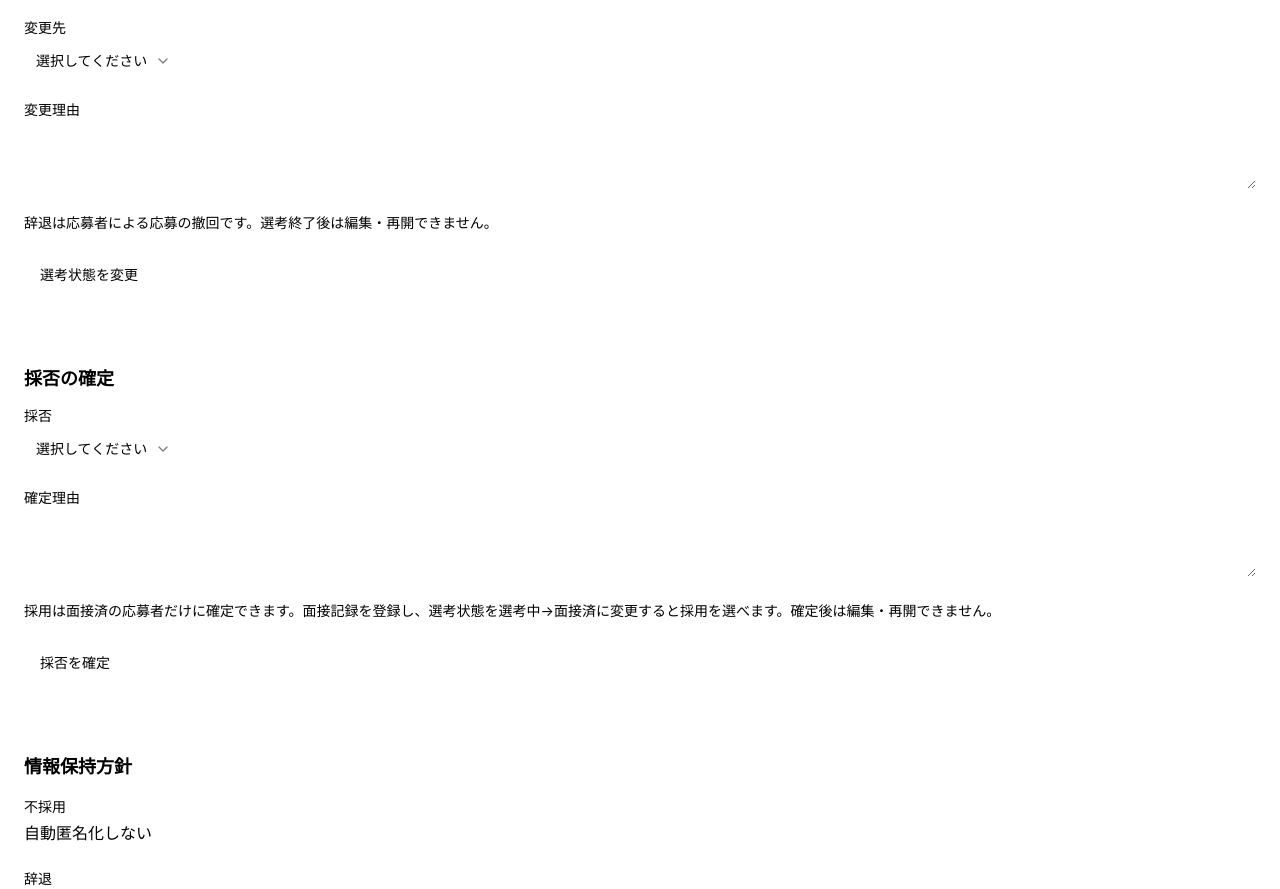
it: 面接前は不採用だけを選べ、確認後に確定して終了表示へ切り替える
(page scrolled)
Click the dropdown named "採否": (104, 449) [24,431,183,467]
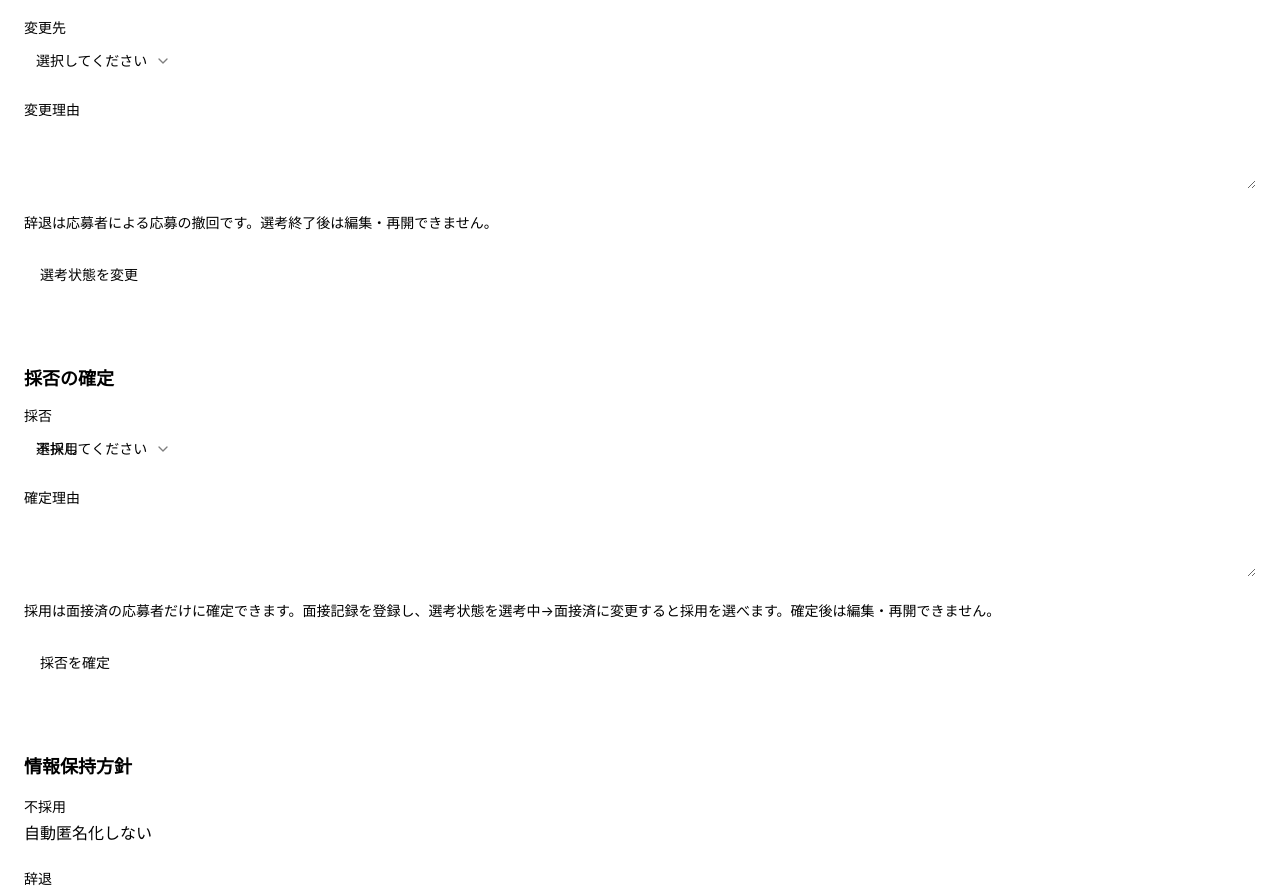
expect the option "不採用" is shown: met
Click the option "不採用": (57, 448) [36,440,78,457]
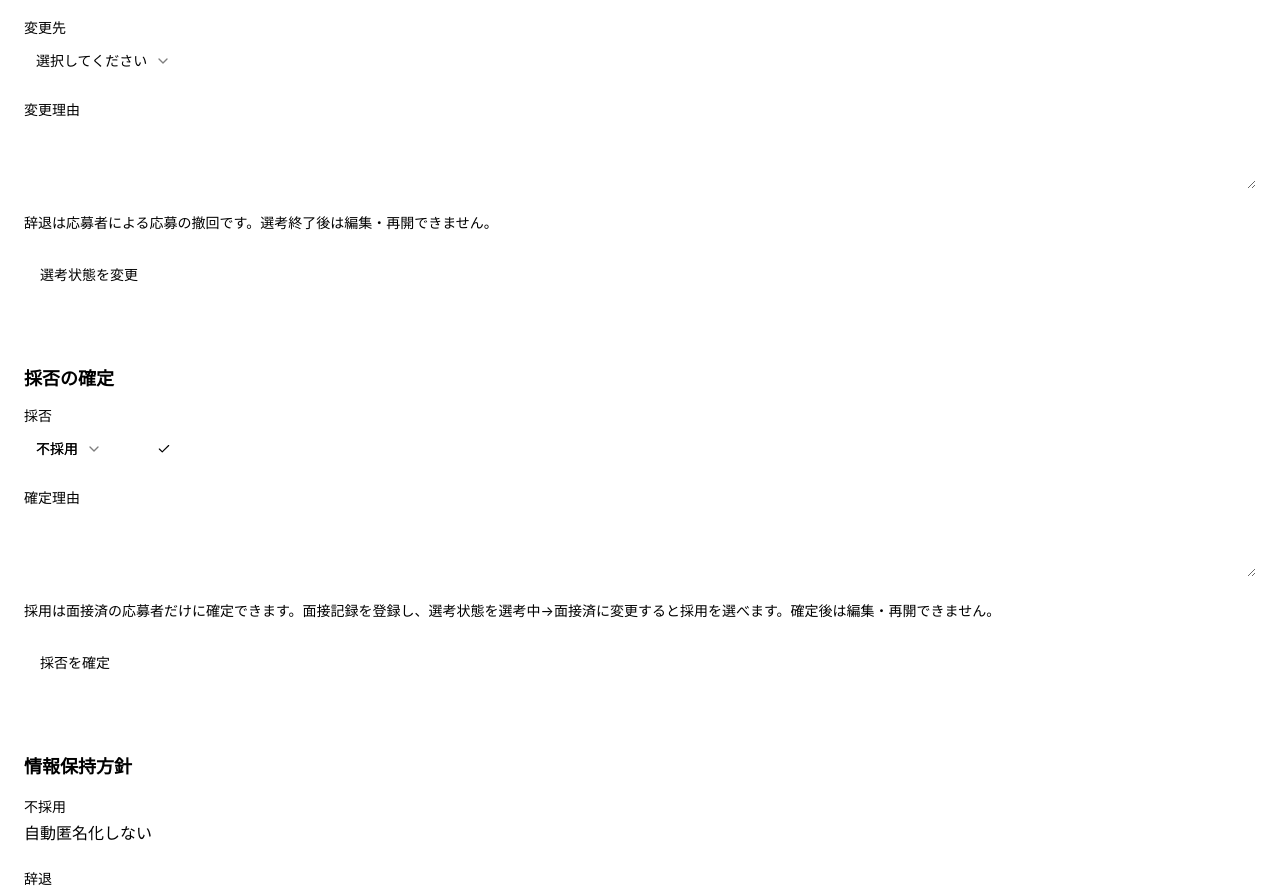
In the text box labelled "確定理由": (640, 545) [24,513,1256,577], type "書類で見送り"
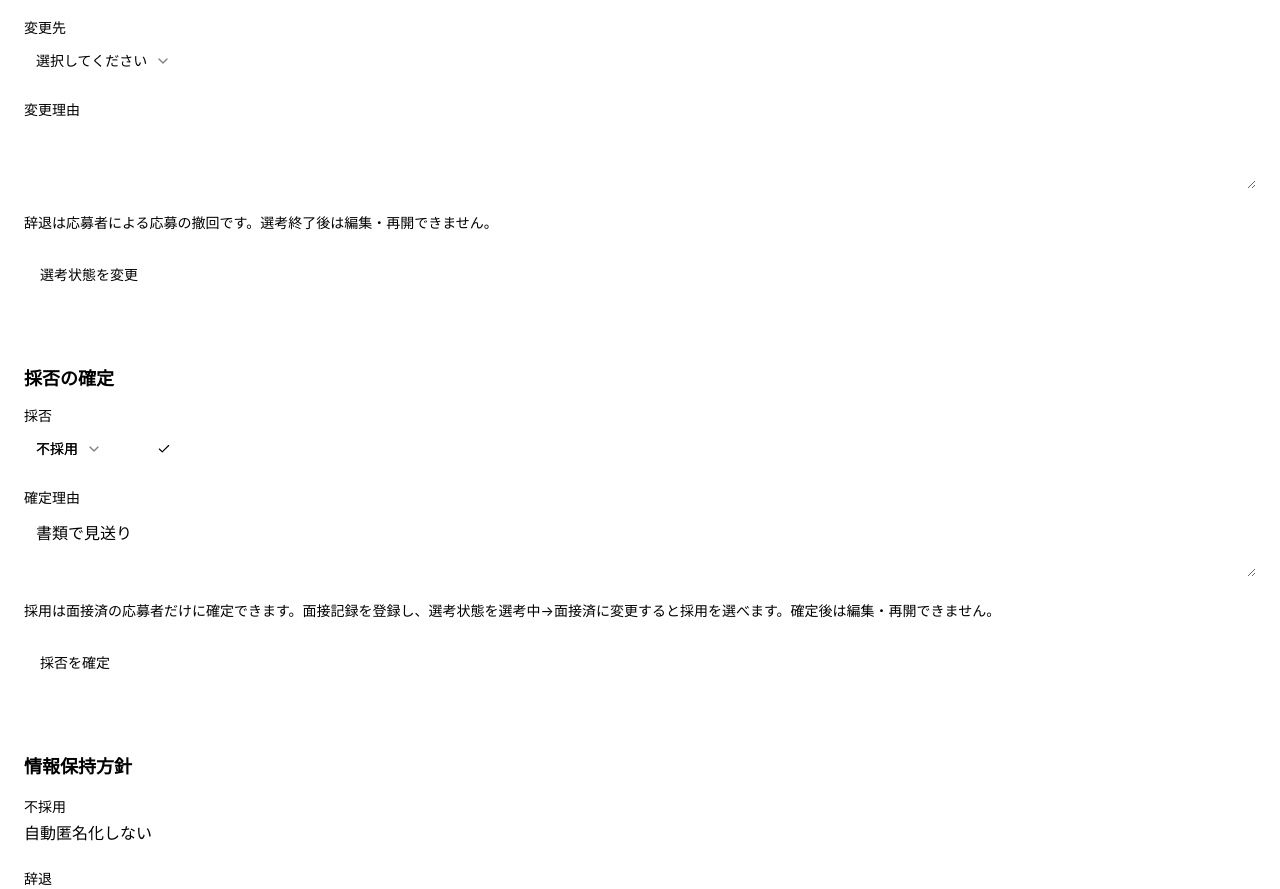
Click the button "採否を確定": (75, 663) [24,645,126,681]
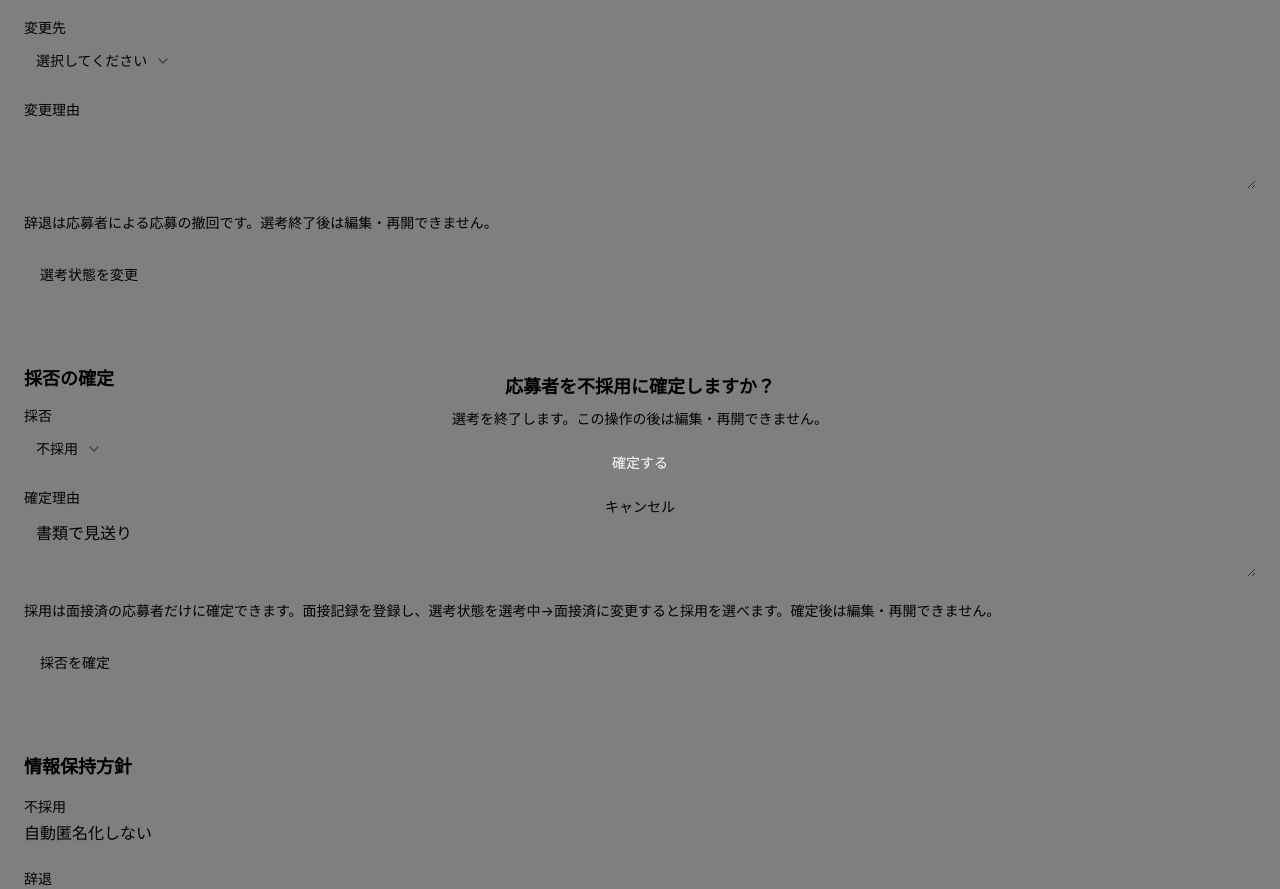
Click the button "確定する": (640, 463) [40,445,1240,481]
(page scrolled)
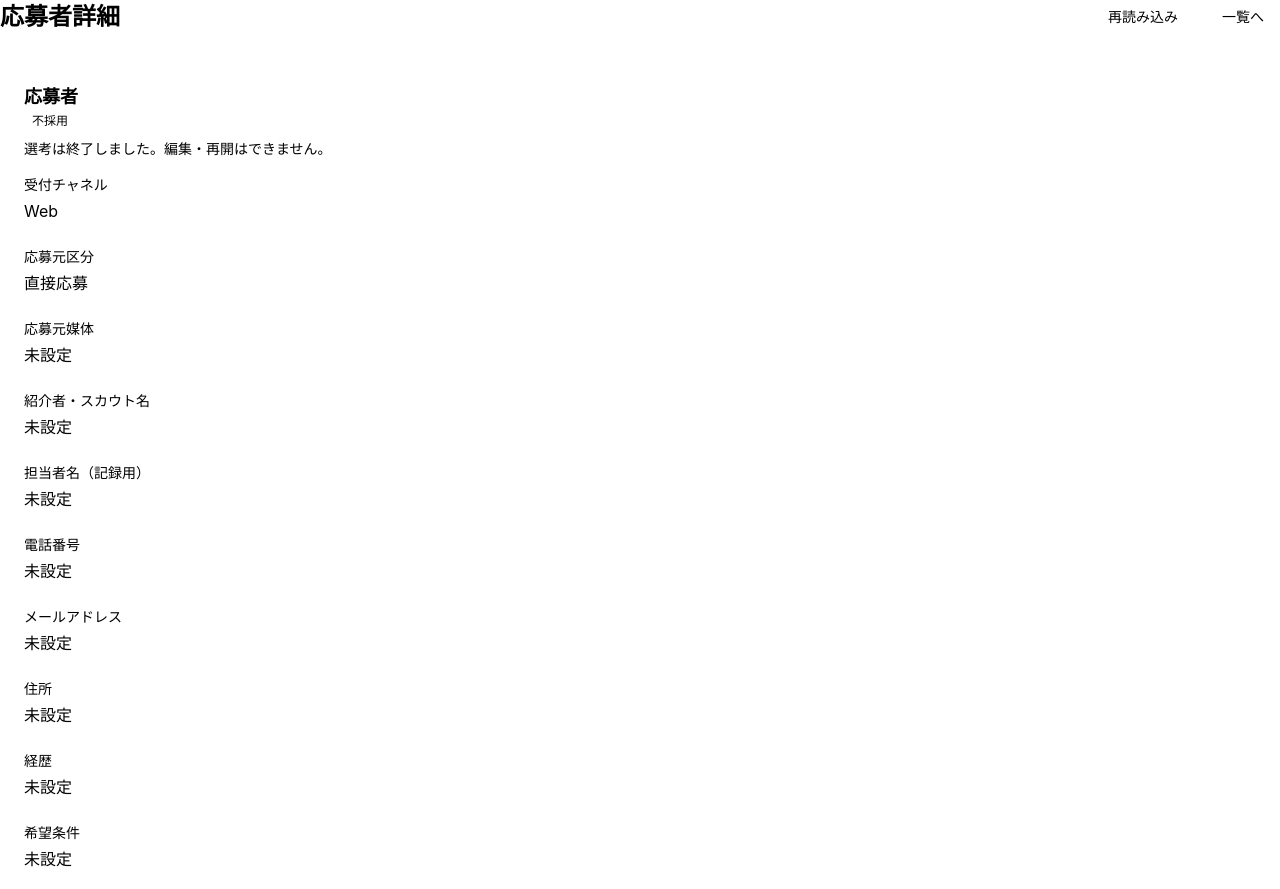
expect the text "選考は終了しました。編集・再開はできません。" is shown: met, box [24,139,332,159]
expect the heading "採否の確定" is gone: met
